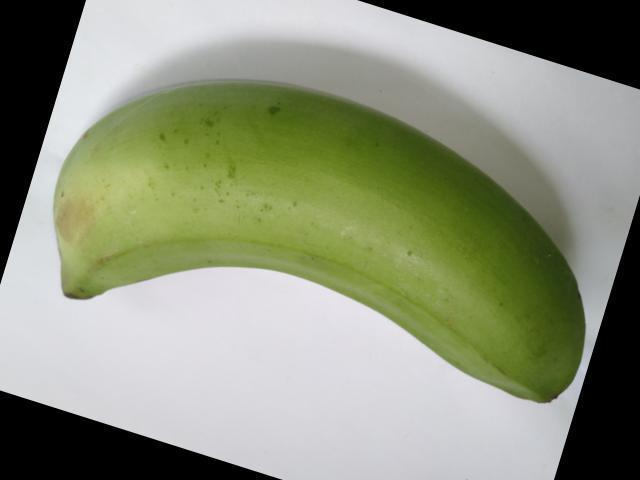freshunripe: (36, 62, 597, 429)
